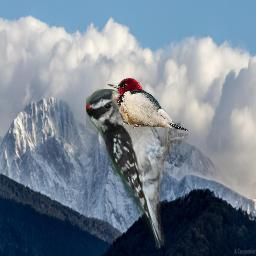Woodpecker: (86, 89, 188, 249), (107, 78, 189, 131)
